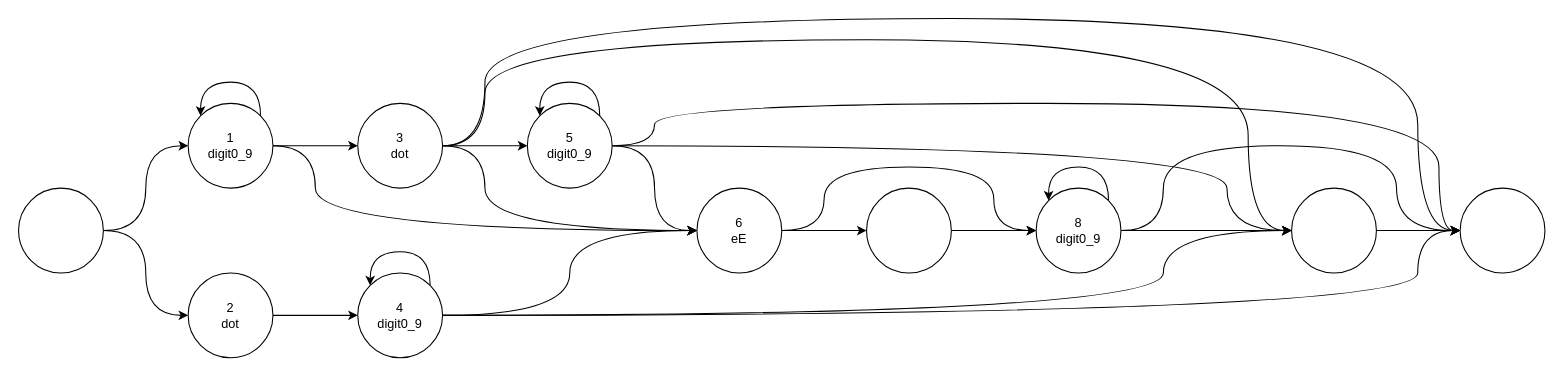
This 1563x376 diagram has some shape labels left out. Each missing label, with the centre of its shape:
0 start: pixel 60 230
10 end: pixel 1502 230
7 sign: pixel 908 230
9 suffix: pixel 1333 230
